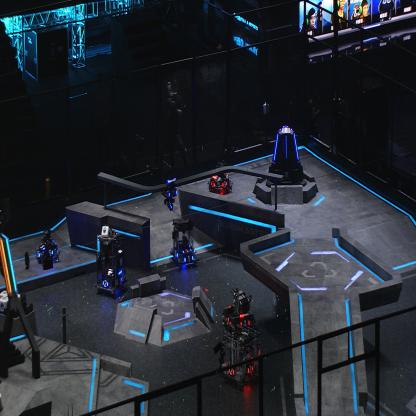car: (217, 318, 261, 390), (95, 229, 129, 297), (222, 284, 256, 334), (170, 214, 199, 268), (207, 156, 233, 194), (36, 226, 59, 262)
